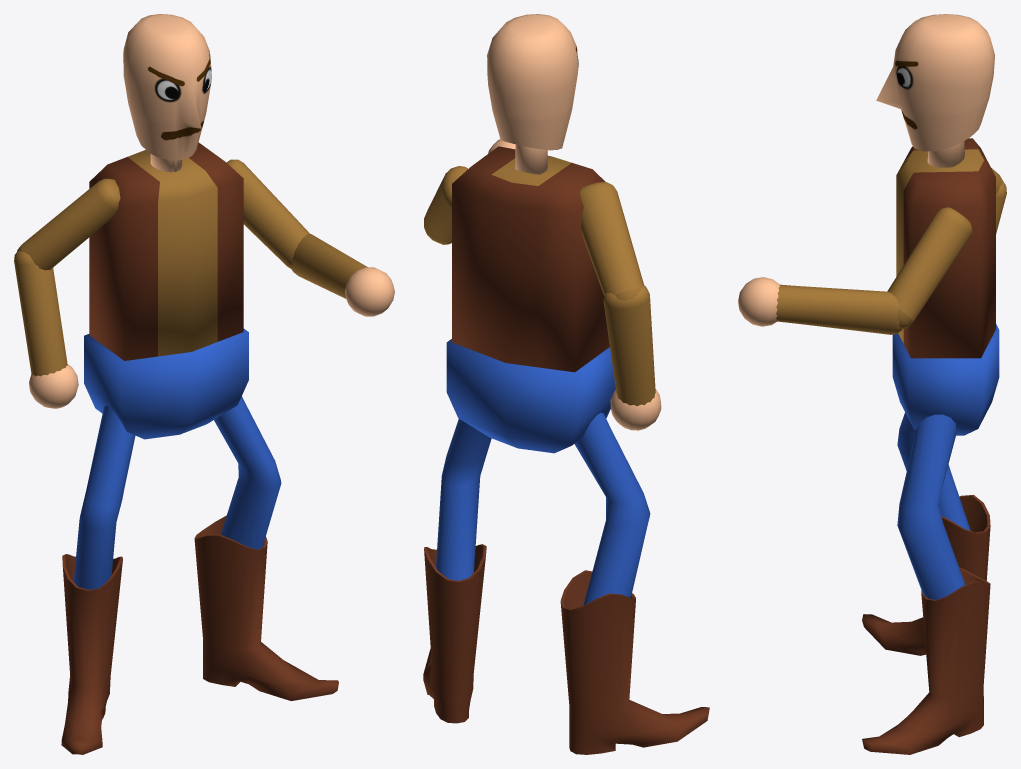
The model's file is COWBOY.glb.
3 renders of one model, left to right at view 1: azimuth 30°, elevation 25°; view 2: azimuth 150°, elevation 25°; view 3: azimuth 270°, elevation 25°, orthographic. The views are drawn at different scales.
Parts seen in each view (by area): view 1: Outlaw; view 2: Outlaw; view 3: Outlaw.
Boxes of the visible parts, x1,y1,x2,y2 form: Outlaw: (14,14,394,754); Outlaw: (423,14,709,754); Outlaw: (738,14,1006,754).
Size of the model in its own units: 2.51 by 6.04 by 2.19.
5 materials, 1 textured.
